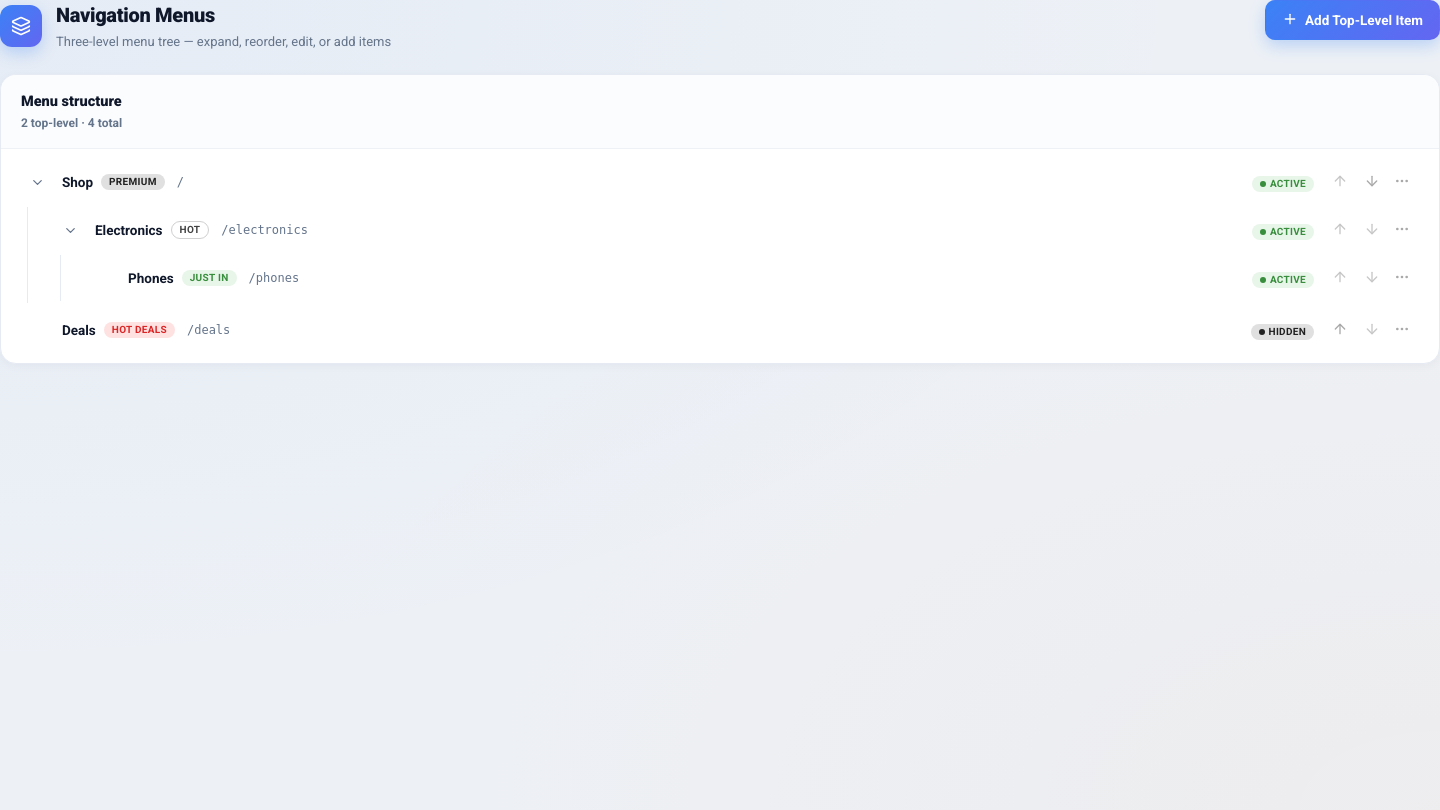
Test: MenuTreeEditor › offers the badge variant control when the column exists
expect the text "Shop" is shown: met, box left=62, top=172, right=93, bottom=192
Click the button "Add Top-Level Item" at (1352, 20), box left=1265, top=0, right=1439, bottom=40
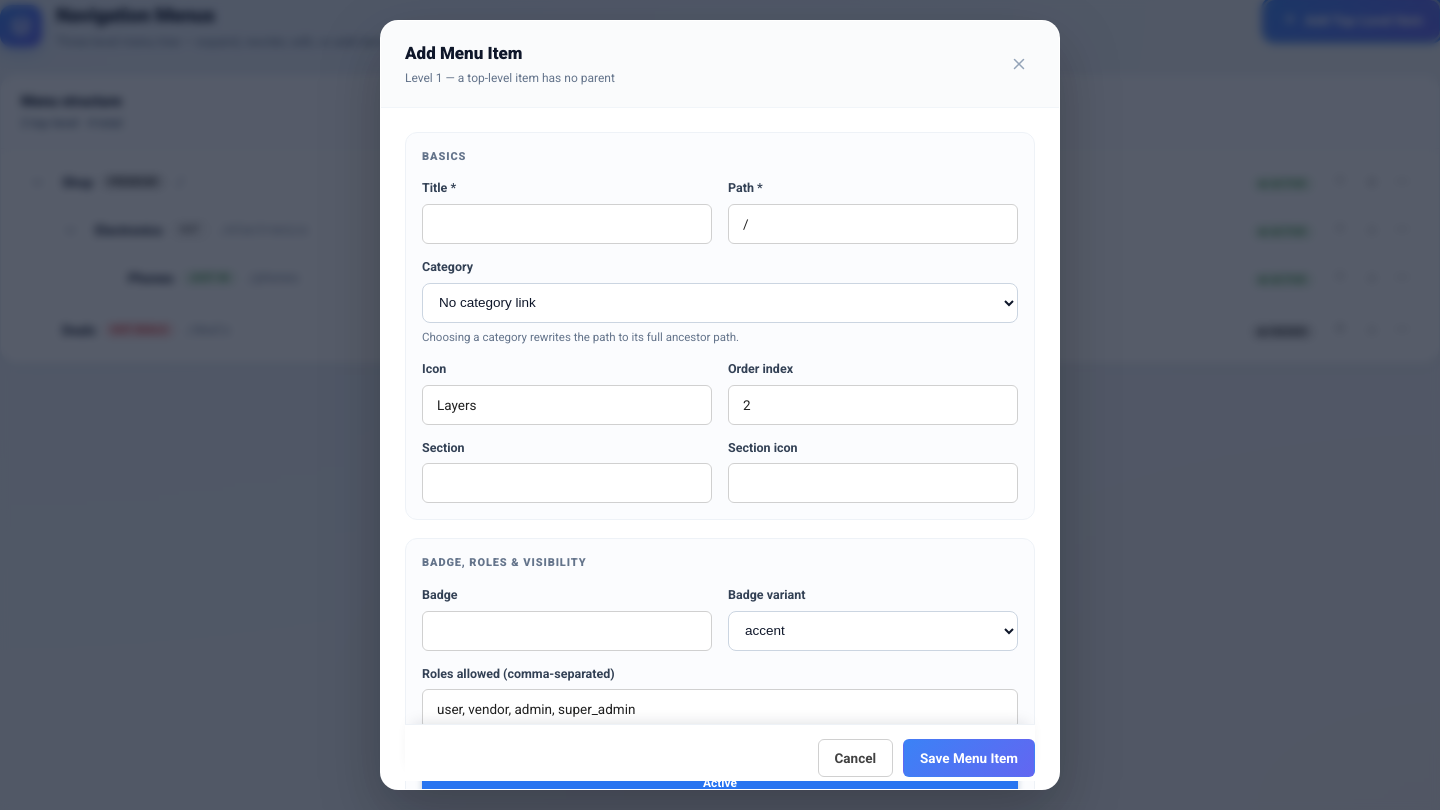
expect the dropdown labelled "Badge variant" is enabled: met, box left=728, top=610, right=1018, bottom=650
